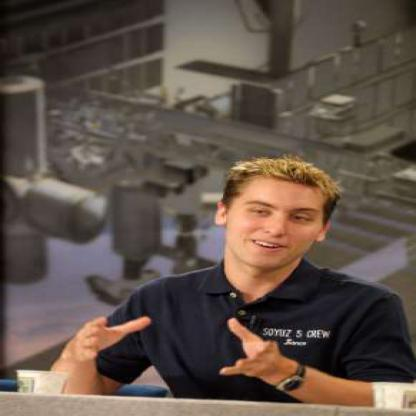face: (226, 162, 329, 271)
